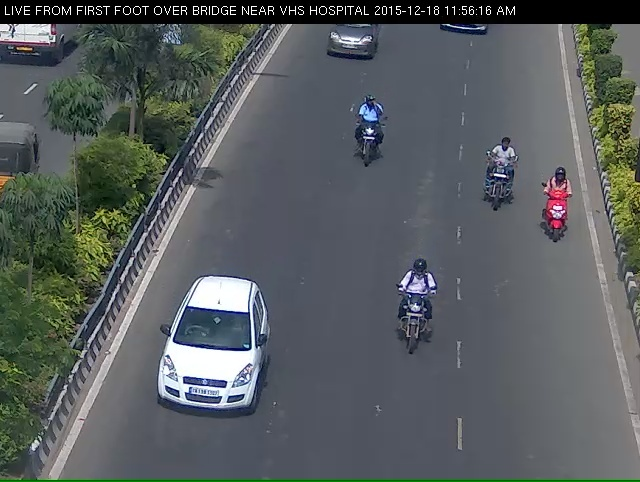Car: (135, 306, 262, 457), (313, 20, 384, 78)
Person: (387, 285, 438, 372), (537, 172, 578, 265), (348, 105, 386, 191), (480, 140, 514, 236)
